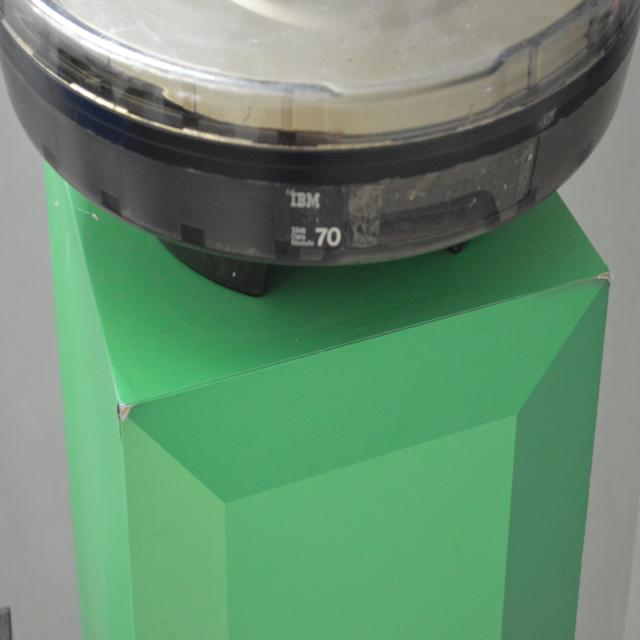ibm3348: (273, 178, 351, 270)
